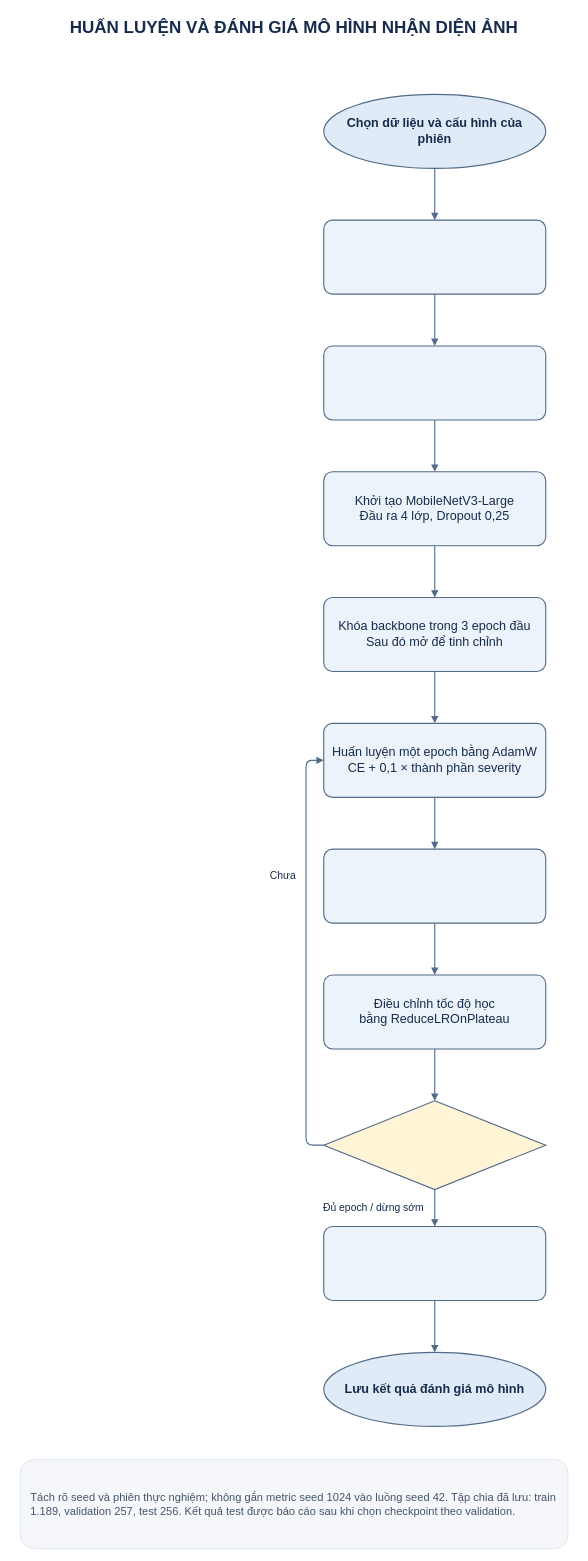
The diagram is 588 pixels wide and 1561 high, and some of its shapes have lost their labels. Here are the shapes that lost their labels. From the top down, the box of each, then its label:
(323, 219, 546, 294): Dùng tập chia đã lưu Train / validation / test riêng biệt
(323, 345, 546, 420): Tiền xử lý và tăng cường ảnh Letterbox 256 × 256, chuẩn hóa
(323, 848, 546, 923): Đánh giá trên validation Cập nhật checkpoint tốt nhất
(323, 1100, 546, 1190): Đủ điều kiện dừng?
(323, 1226, 546, 1301): Nạp checkpoint đã chọn Đánh giá trên test độc lập
